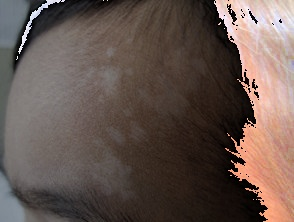vitiligo: (42, 14, 220, 218)
